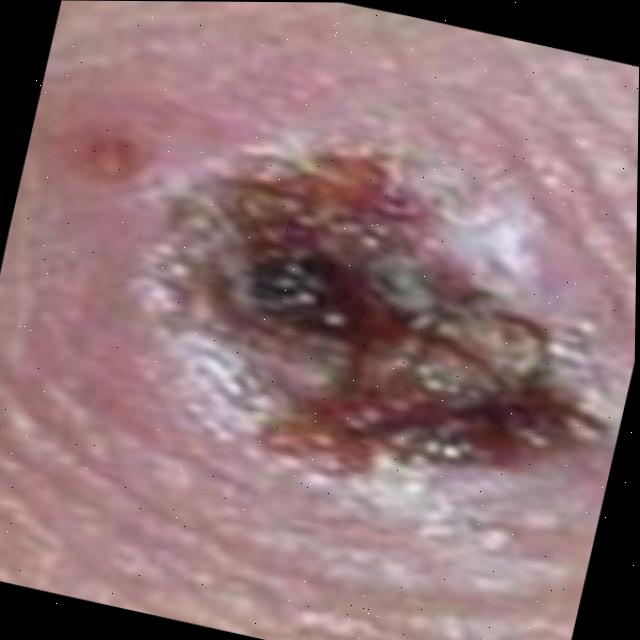Eczema: (172, 152, 558, 464)
